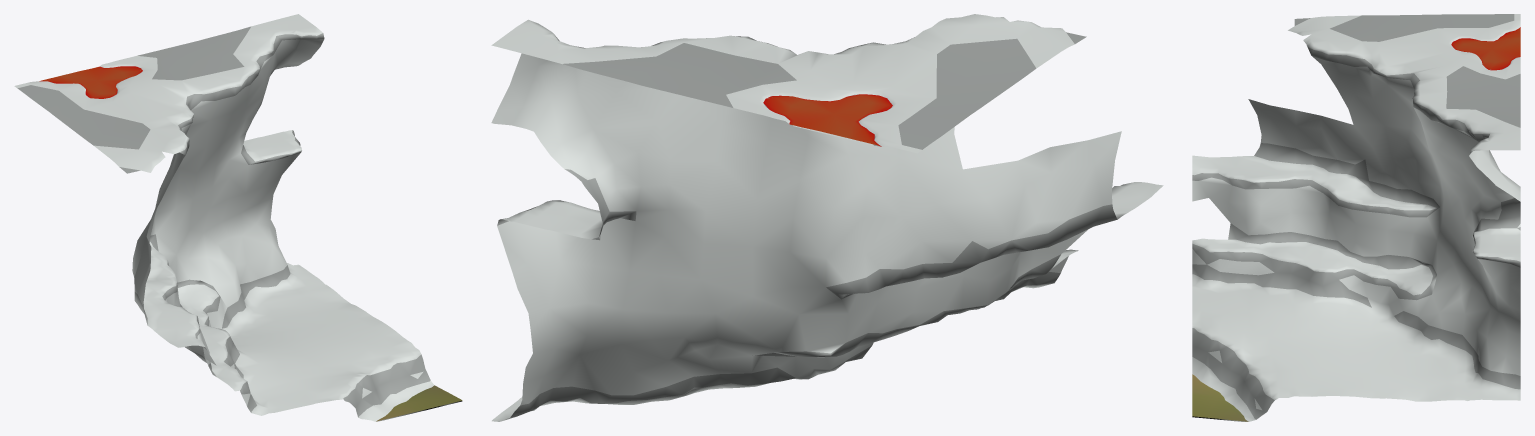
3 views of the same model, side by side, from view 1: azimuth 30°, elevation 25°; view 2: azimuth 150°, elevation 25°; view 3: azimuth 270°, elevation 25° (orthographic). The views are drawn at different scales.
Parts seen in each view (by area): view 1: G:\FFXIV-MapTools\exports\r2f1\bg\ex1\01_roc_r2\fld\r2f1\bgp (×7); view 2: G:\FFXIV-MapTools\exports\r2f1\bg\ex1\01_roc_r2\fld\r2f1\bgp (×6); view 3: G:\FFXIV-MapTools\exports\r2f1\bg\ex1\01_roc_r2\fld\r2f1\bgp (×7).
Part boxes in pixels (x1,y1,x2,y2): G:\FFXIV-MapTools\exports\r2f1\bg\ex1\01_roc_r2\fld\r2f1\bgp (×7): (14, 14, 462, 421); G:\FFXIV-MapTools\exports\r2f1\bg\ex1\01_roc_r2\fld\r2f1\bgp (×6): (491, 14, 1163, 421); G:\FFXIV-MapTools\exports\r2f1\bg\ex1\01_roc_r2\fld\r2f1\bgp (×7): (1192, 14, 1520, 421).
Bounding box in the file's own units: 128 × 117 × 128.
